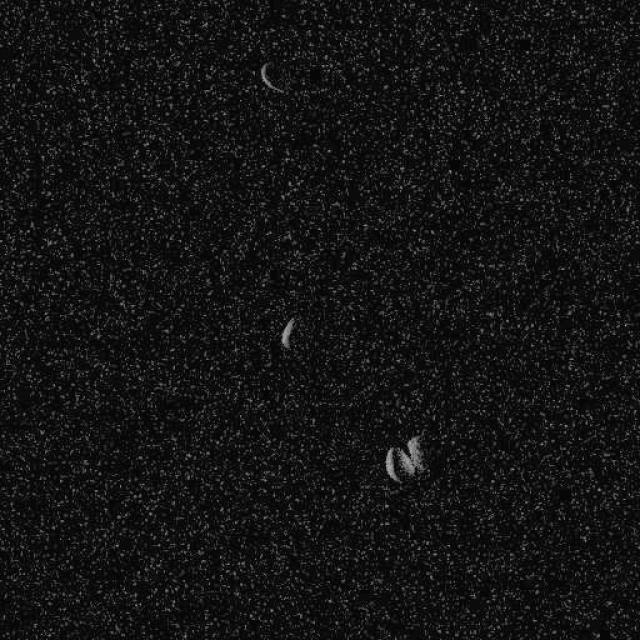D2: (384, 433, 430, 485), (258, 61, 284, 94), (279, 316, 295, 349)
